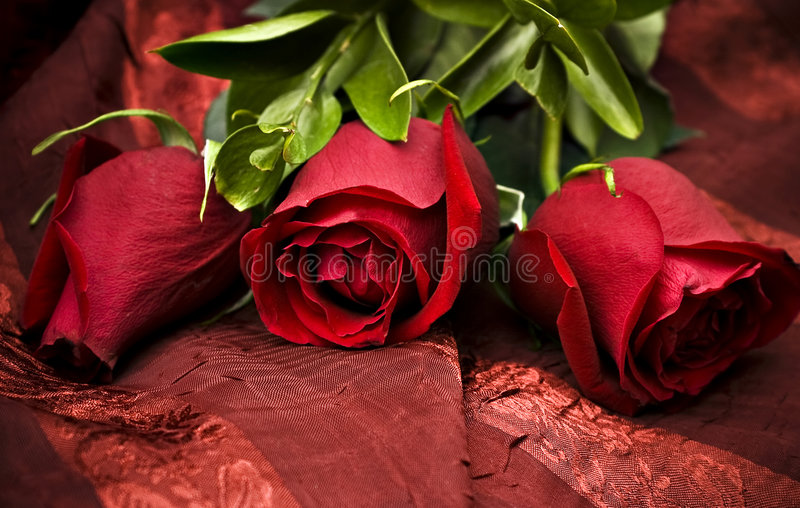RedRose: (529, 162, 788, 397), (274, 106, 502, 338), (39, 144, 271, 371)
